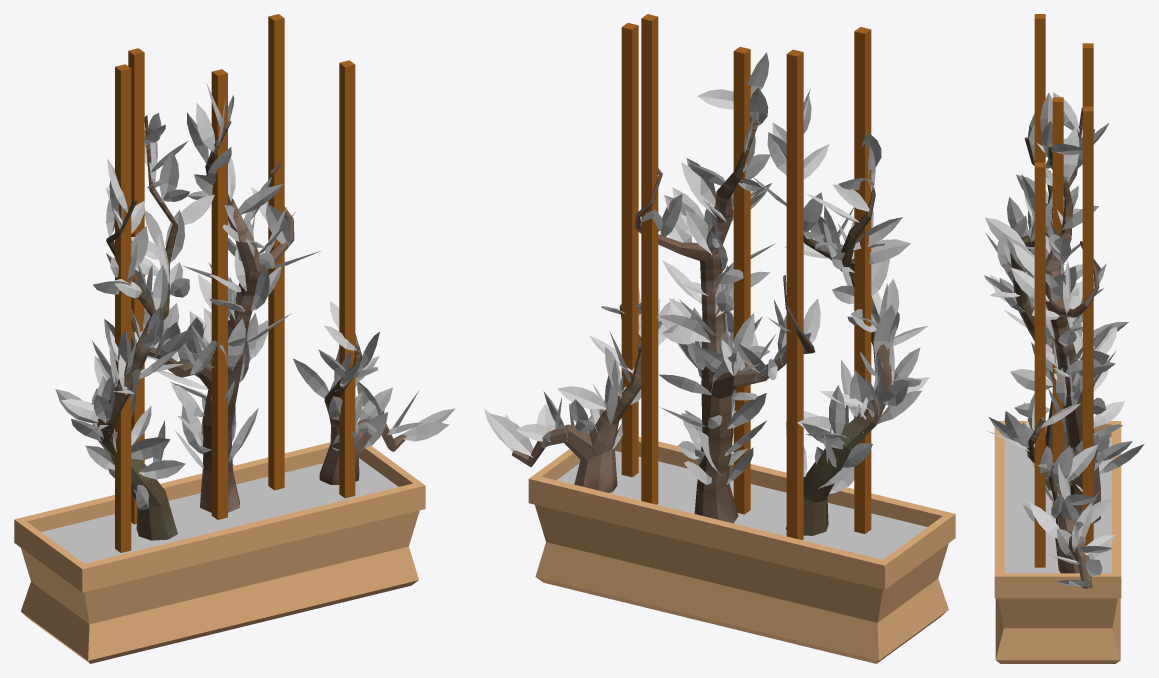
File: PotedPlant.fbx
3 renders of one model, left to right at view 1: azimuth 30°, elevation 25°; view 2: azimuth 150°, elevation 25°; view 3: azimuth 270°, elevation 25°, orthographic. The views are drawn at different scales.
Visible parts, largest first — view 1: Cube; view 2: Cube; view 3: Cube.
Part boxes in pixels (x1=…): Cube: x1=14, y1=14, x2=455, y2=663; Cube: x1=484, y1=14, x2=955, y2=663; Cube: x1=984, y1=14, x2=1144, y2=663.
Size of the model in its own units: 3692 by 4839 by 1337.
